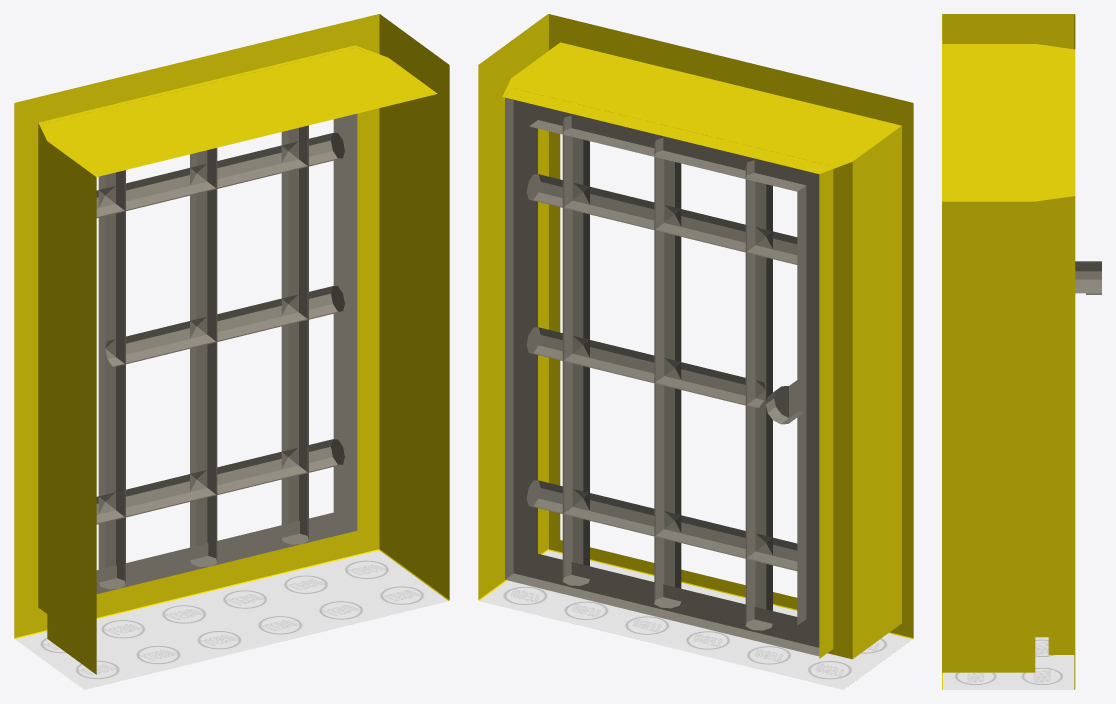
Rendered from c5_door.glb.
The picture shows the model from 3 angles, left to right: view 1: azimuth 30°, elevation 25°; view 2: azimuth 150°, elevation 25°; view 3: azimuth 270°, elevation 25°; orthographic projection. The views are drawn at different scales.
Parts seen in each view (by area): view 1: 011_L_407100, 005_L_461100; view 2: 011_L_407100, 005_L_461100; view 3: 011_L_407100, 005_L_461100.
Boxes of the visible parts, left/top/right/bottom form: 011_L_407100: left=14, top=14, right=449, bottom=689; 005_L_461100: left=96, top=113, right=357, bottom=593; 011_L_407100: left=478, top=14, right=913, bottom=689; 005_L_461100: left=505, top=97, right=819, bottom=656; 011_L_407100: left=942, top=14, right=1075, bottom=689; 005_L_461100: left=1075, top=261, right=1101, bottom=294.
Bounding box in the file's own units: 4.8 × 6.72 × 1.92.
Materials: 4 (2 with a texture image).
